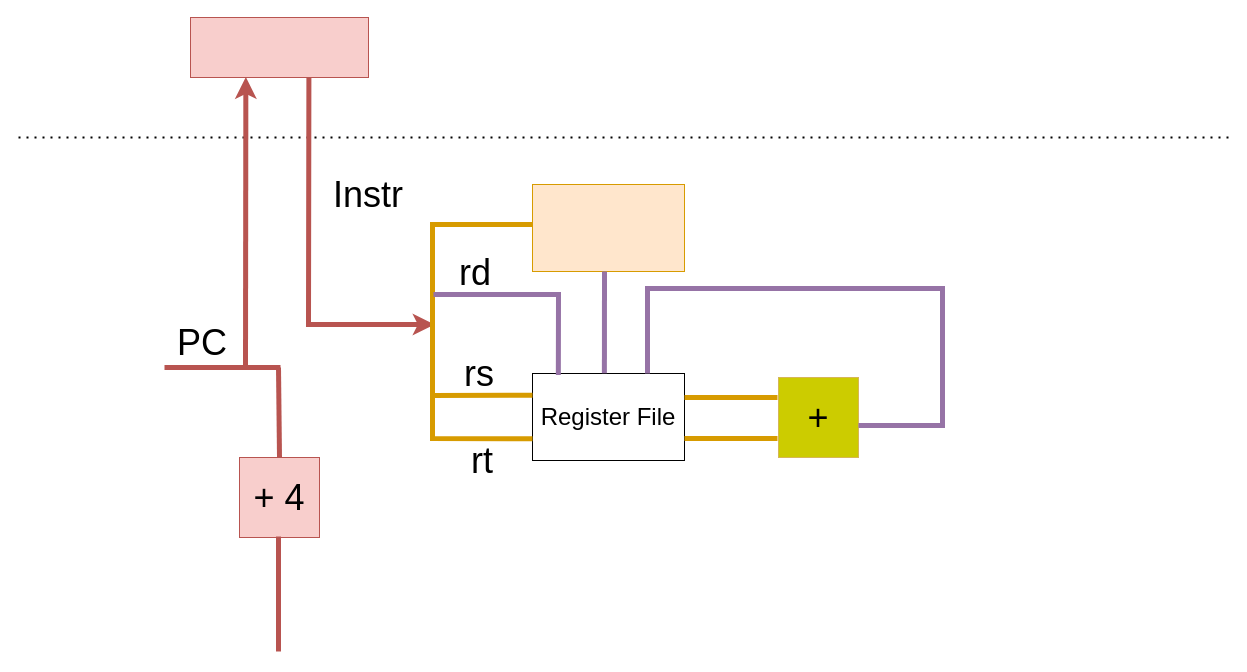
The diagram is 1247 pixels wide and 672 high, and some of its shapes have lost their labels. The centre of each missing label's shape, as x and y in pixels:
"Controller" belongs at point (608, 228).
"Instruction memory" belongs at point (279, 47).
